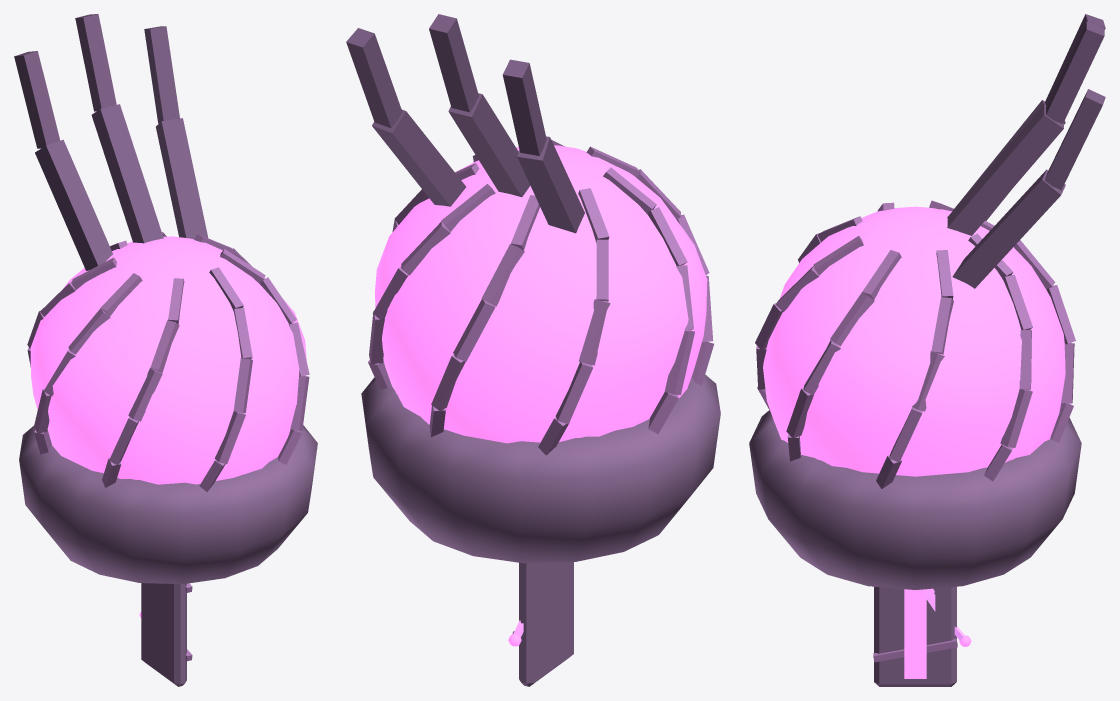
Rendered from ship_gauntlet.glb.
The picture shows the model from 3 angles, left to right: view 1: azimuth 30°, elevation 25°; view 2: azimuth 150°, elevation 25°; view 3: azimuth 270°, elevation 25°; orthographic projection. The views are drawn at different scales.
Parts seen in each view (by area): view 1: sg_sac_mesh, sg_rib_mesh; view 2: sg_sac_mesh, sg_rib_mesh; view 3: sg_sac_mesh, sg_rib_mesh.
Part boxes in pixels (x1,y1,x2,y2): sg_sac_mesh: (14,14,317,584); sg_rib_mesh: (141,583,192,686); sg_sac_mesh: (346,14,720,563); sg_rib_mesh: (512,562,573,686); sg_sac_mesh: (749,14,1105,589); sg_rib_mesh: (873,586,957,686).
Bounding box in the file's own units: 2.4 × 5.28 × 2.57.
